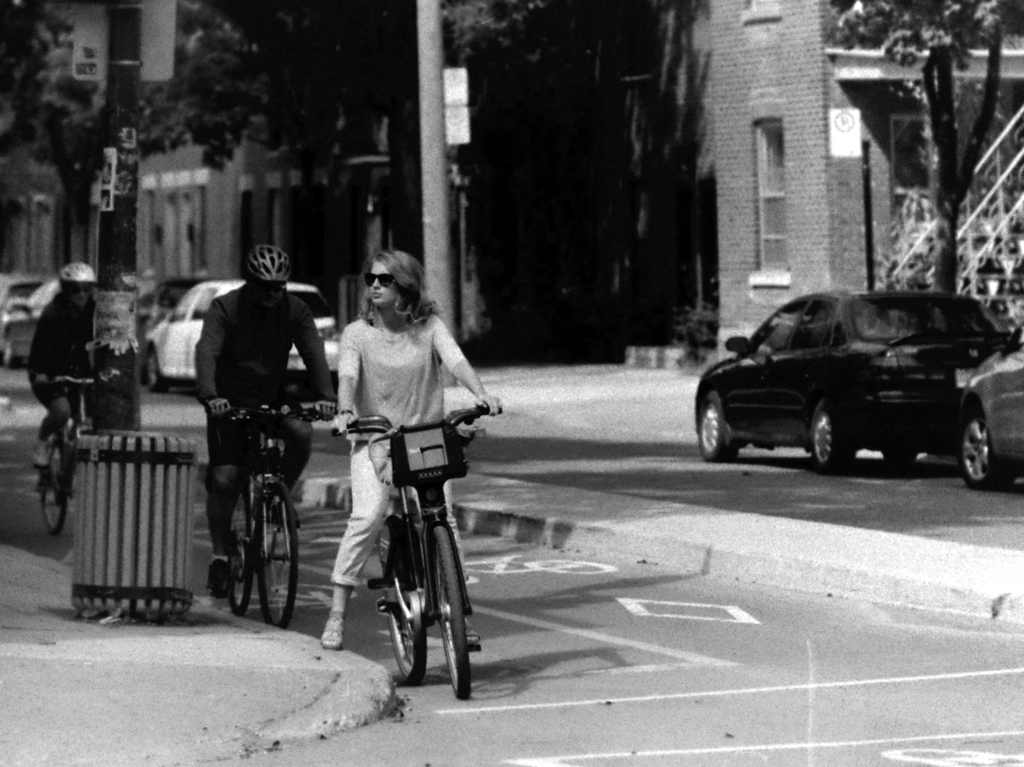Bike: (331, 403, 509, 701), (198, 396, 331, 628)
